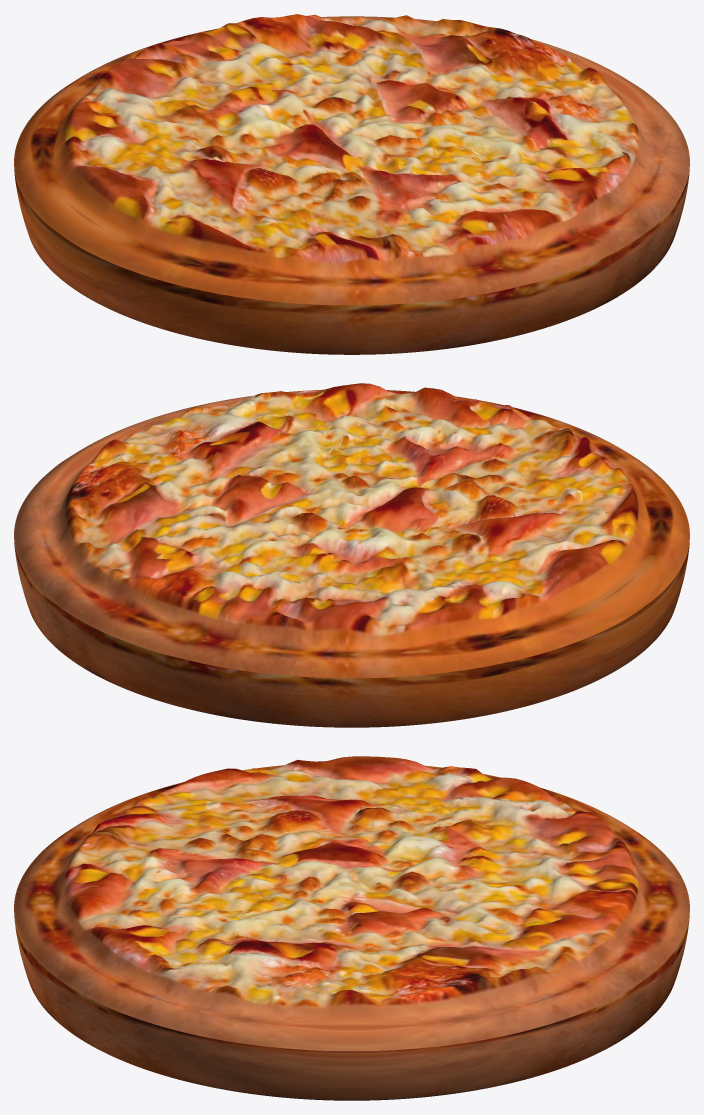
Rendered from americana.glb.
3 views of the same model, one above another, from view 1: azimuth 30°, elevation 25°; view 2: azimuth 150°, elevation 25°; view 3: azimuth 270°, elevation 25° (orthographic).
Visible parts, largest first — view 1: Americana; view 2: Americana; view 3: Americana.
Part boxes in pixels (bbox=[...]): Americana: bbox=[14, 14, 689, 354]; Americana: bbox=[14, 383, 689, 727]; Americana: bbox=[14, 756, 689, 1100].
Bounding box in the file's own units: 0.36 × 0.0549 × 0.36.
Materials: 2 (2 with a texture image).
